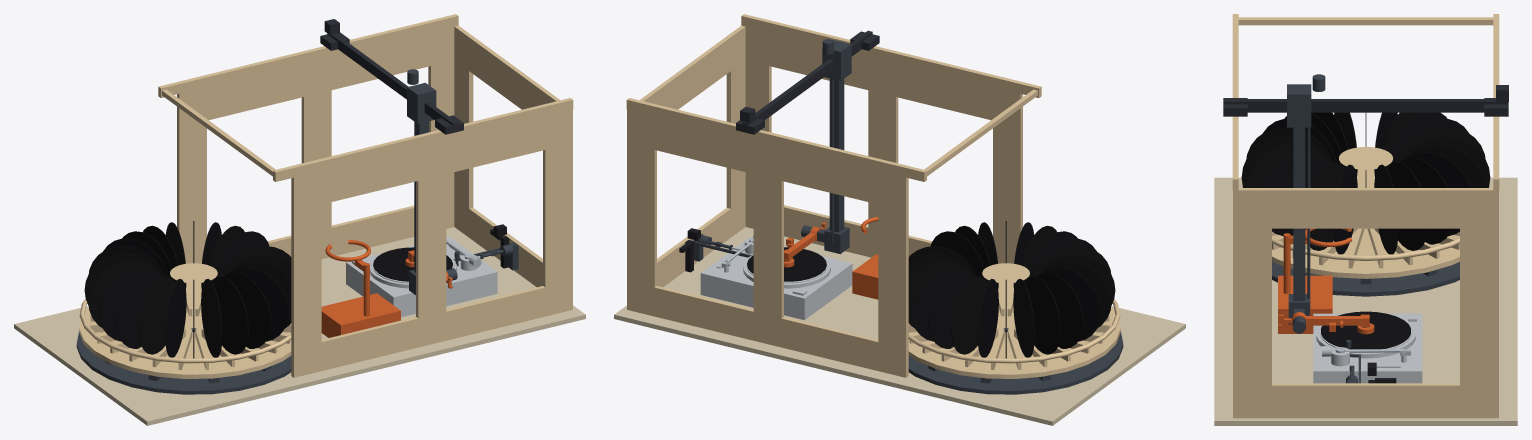
File: machine.glb
3 views of the same model, side by side, from view 1: azimuth 30°, elevation 25°; view 2: azimuth 150°, elevation 25°; view 3: azimuth 270°, elevation 25° (orthographic). The views are drawn at different scales.
Visible parts, largest first — view 1: frame, bench, carousel_disc, plinth, carousel_base, station, x_carriage, record_slot18, record_slot14, record_slot13, record_slot19, record_slot12 (+15 smaller); view 2: frame, bench, carousel_disc, plinth, carousel_base, z_carriage, x_carriage, record_slot6, record_slot10, record_slot5, record_slot11, record_slot12 (+16 smaller); view 3: frame, bench, carousel_disc, plinth, x_carriage, z_carriage, carousel_base, station, record_held, y_carriage, record_slot2, record_slot3 (+24 smaller).
Boxes of the visible parts, x1,y1,x2,y2 form: frame: [158, 14, 573, 377]; bench: [14, 227, 585, 425]; carousel_disc: [79, 263, 291, 378]; plinth: [346, 237, 497, 317]; carousel_base: [76, 328, 291, 394]; station: [321, 240, 400, 337]; x_carriage: [320, 19, 463, 134]; record_slot18: [212, 276, 248, 354]; record_slot14: [139, 276, 175, 354]; record_slot13: [116, 272, 164, 348]; record_slot19: [223, 272, 271, 348]; record_slot12: [99, 267, 157, 341]; frame: [626, 14, 1041, 377]; bench: [614, 227, 1185, 425]; carousel_disc: [908, 263, 1120, 378]; plinth: [700, 237, 852, 320]; carousel_base: [908, 328, 1123, 394]; z_carriage: [801, 78, 849, 254]; x_carriage: [736, 30, 879, 134]; record_slot6: [951, 276, 987, 354]; record_slot10: [1024, 276, 1060, 354]; record_slot5: [928, 272, 976, 348]; record_slot11: [1035, 272, 1083, 348]; record_slot12: [1042, 267, 1100, 341]; frame: [1232, 14, 1499, 418]; bench: [1214, 177, 1517, 425]; carousel_disc: [1242, 147, 1489, 278]; plinth: [1313, 313, 1422, 383]; x_carriage: [1223, 85, 1508, 116]; z_carriage: [1288, 127, 1310, 333]; carousel_base: [1272, 261, 1459, 296]; station: [1278, 228, 1352, 333]; record_held: [1321, 311, 1410, 349]; y_carriage: [1287, 74, 1325, 127]; record_slot2: [1387, 162, 1427, 250]; record_slot3: [1399, 157, 1451, 244].
Bounding box in the file's own units: 1900 × 1013 × 1000.
